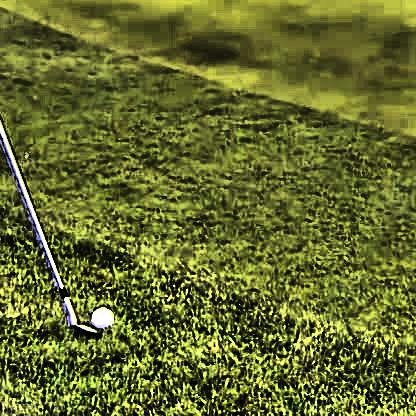golfball: (86, 301, 111, 326)
